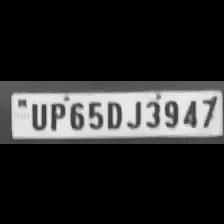3: (142, 97, 162, 127)
4: (179, 96, 199, 128)
5: (84, 97, 104, 129)
6: (66, 98, 86, 130)
7: (198, 95, 218, 127)
9: (160, 96, 180, 128)
D: (104, 96, 124, 128)
J: (124, 96, 144, 128)
P: (46, 98, 66, 130)
U: (28, 99, 48, 129)
